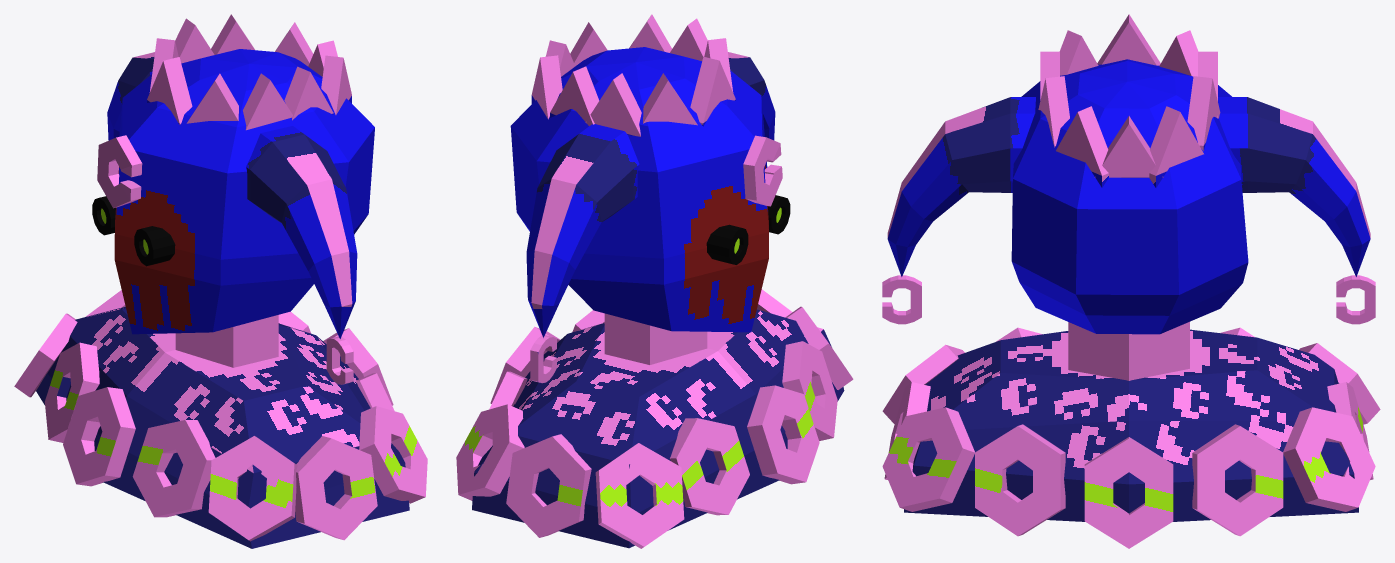
File: VitaminA.glb
3 views of the same model, side by side, from view 1: azimuth 30°, elevation 25°; view 2: azimuth 150°, elevation 25°; view 3: azimuth 270°, elevation 25° (orthographic). The views are drawn at different scales.
Parts seen in each view (by area): view 1: Cabeça, cylinder, Torso; view 2: Cabeça, cylinder, Torso; view 3: Cabeça, Torso, cylinder.
Part boxes in pixels (bbox=[...]): Cabeça: bbox=[92, 14, 374, 384]; cylinder: bbox=[14, 290, 427, 541]; Torso: bbox=[36, 307, 409, 548]; Cabeça: bbox=[510, 14, 790, 383]; cylinder: bbox=[456, 289, 853, 548]; Torso: bbox=[472, 309, 844, 548]; Cabeça: bbox=[882, 14, 1375, 334]; Torso: bbox=[904, 321, 1358, 521]; cylinder: bbox=[882, 327, 1380, 548].
Size of the model in its own units: 2.62 by 3.42 by 3.53.
2 materials, 2 textured.
